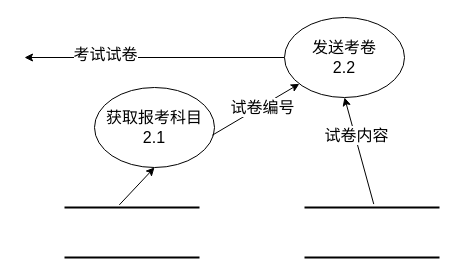
Image size: 458x276. Some labels were removed from this diagram. The centre of each missing label's shape, as x and y in pixels:
"报名记录" goes at pixel 131 232.
"试卷记录" goes at pixel 371 232.
